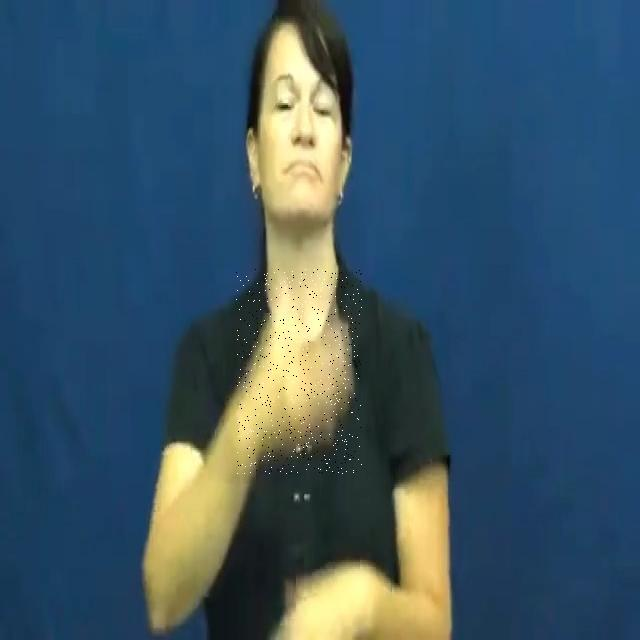lid: (236, 269, 362, 474)
